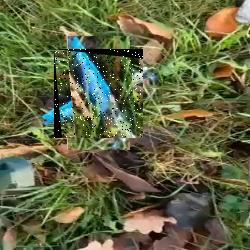plastic: (54, 49, 143, 138)
